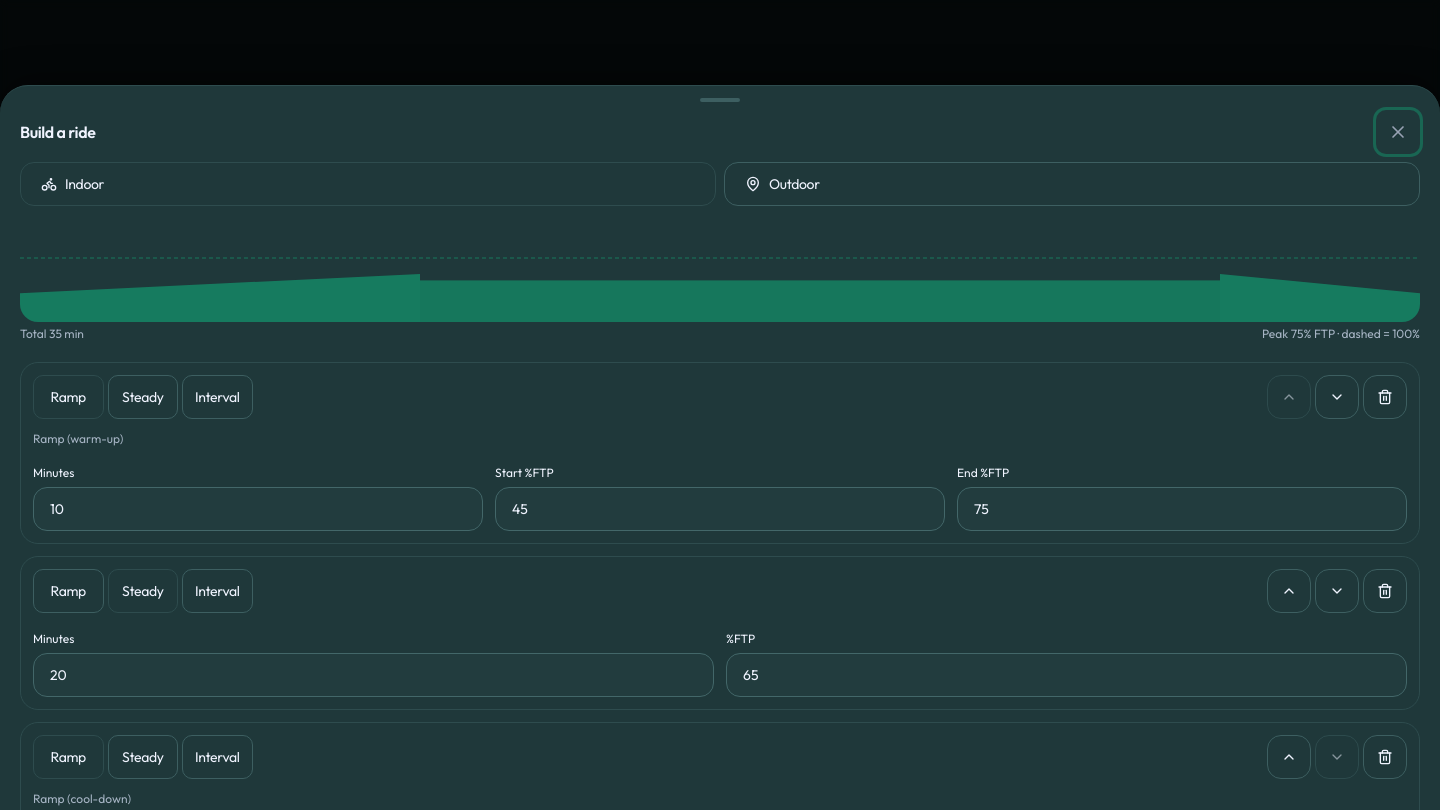
StructuredWorkoutSheet (Batch 88 free-form editor) › blocks submit when a required field is cleared
Clear the number field labelled "%FTP" at (1066, 675), box [726,653,1407,697]
(page scrolled)
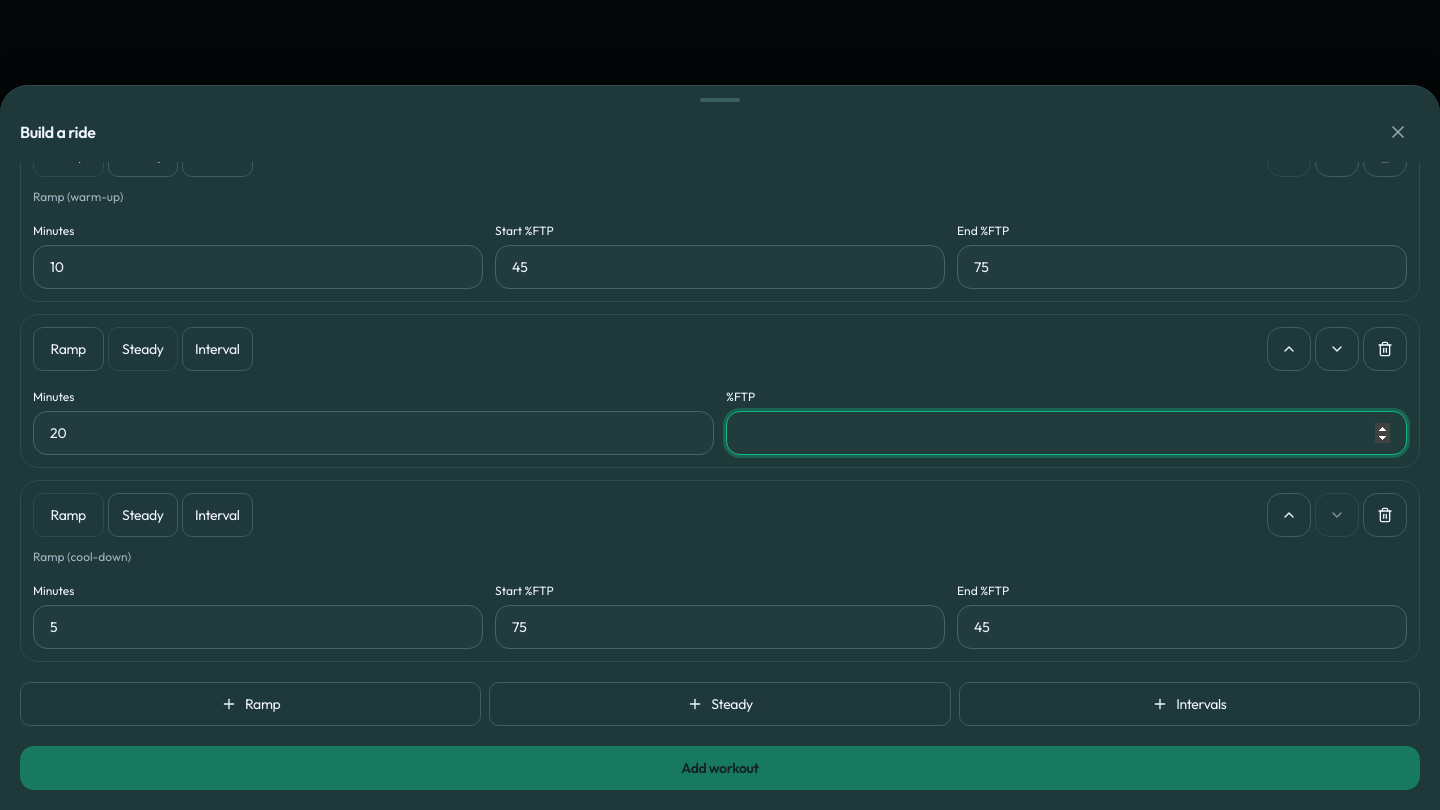
Expected: the button "Add workout" is disabled, [20,746,1420,790]
